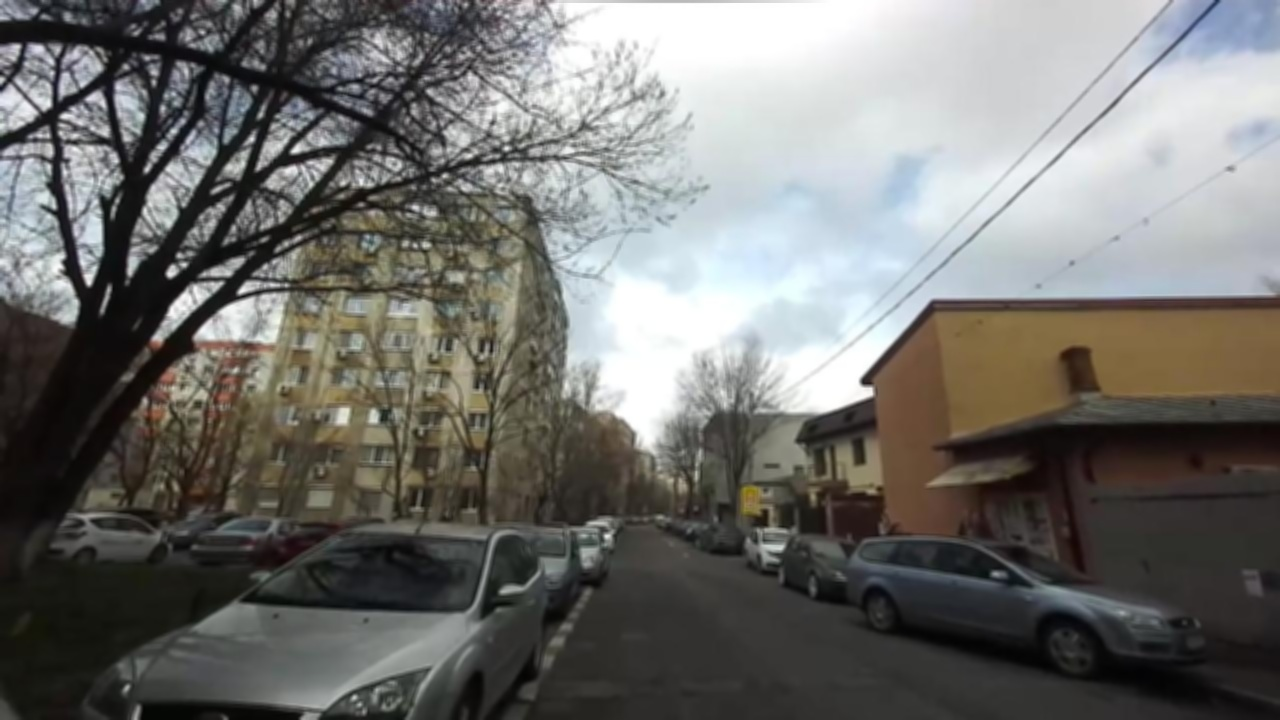pothole: (629, 676, 703, 700)
